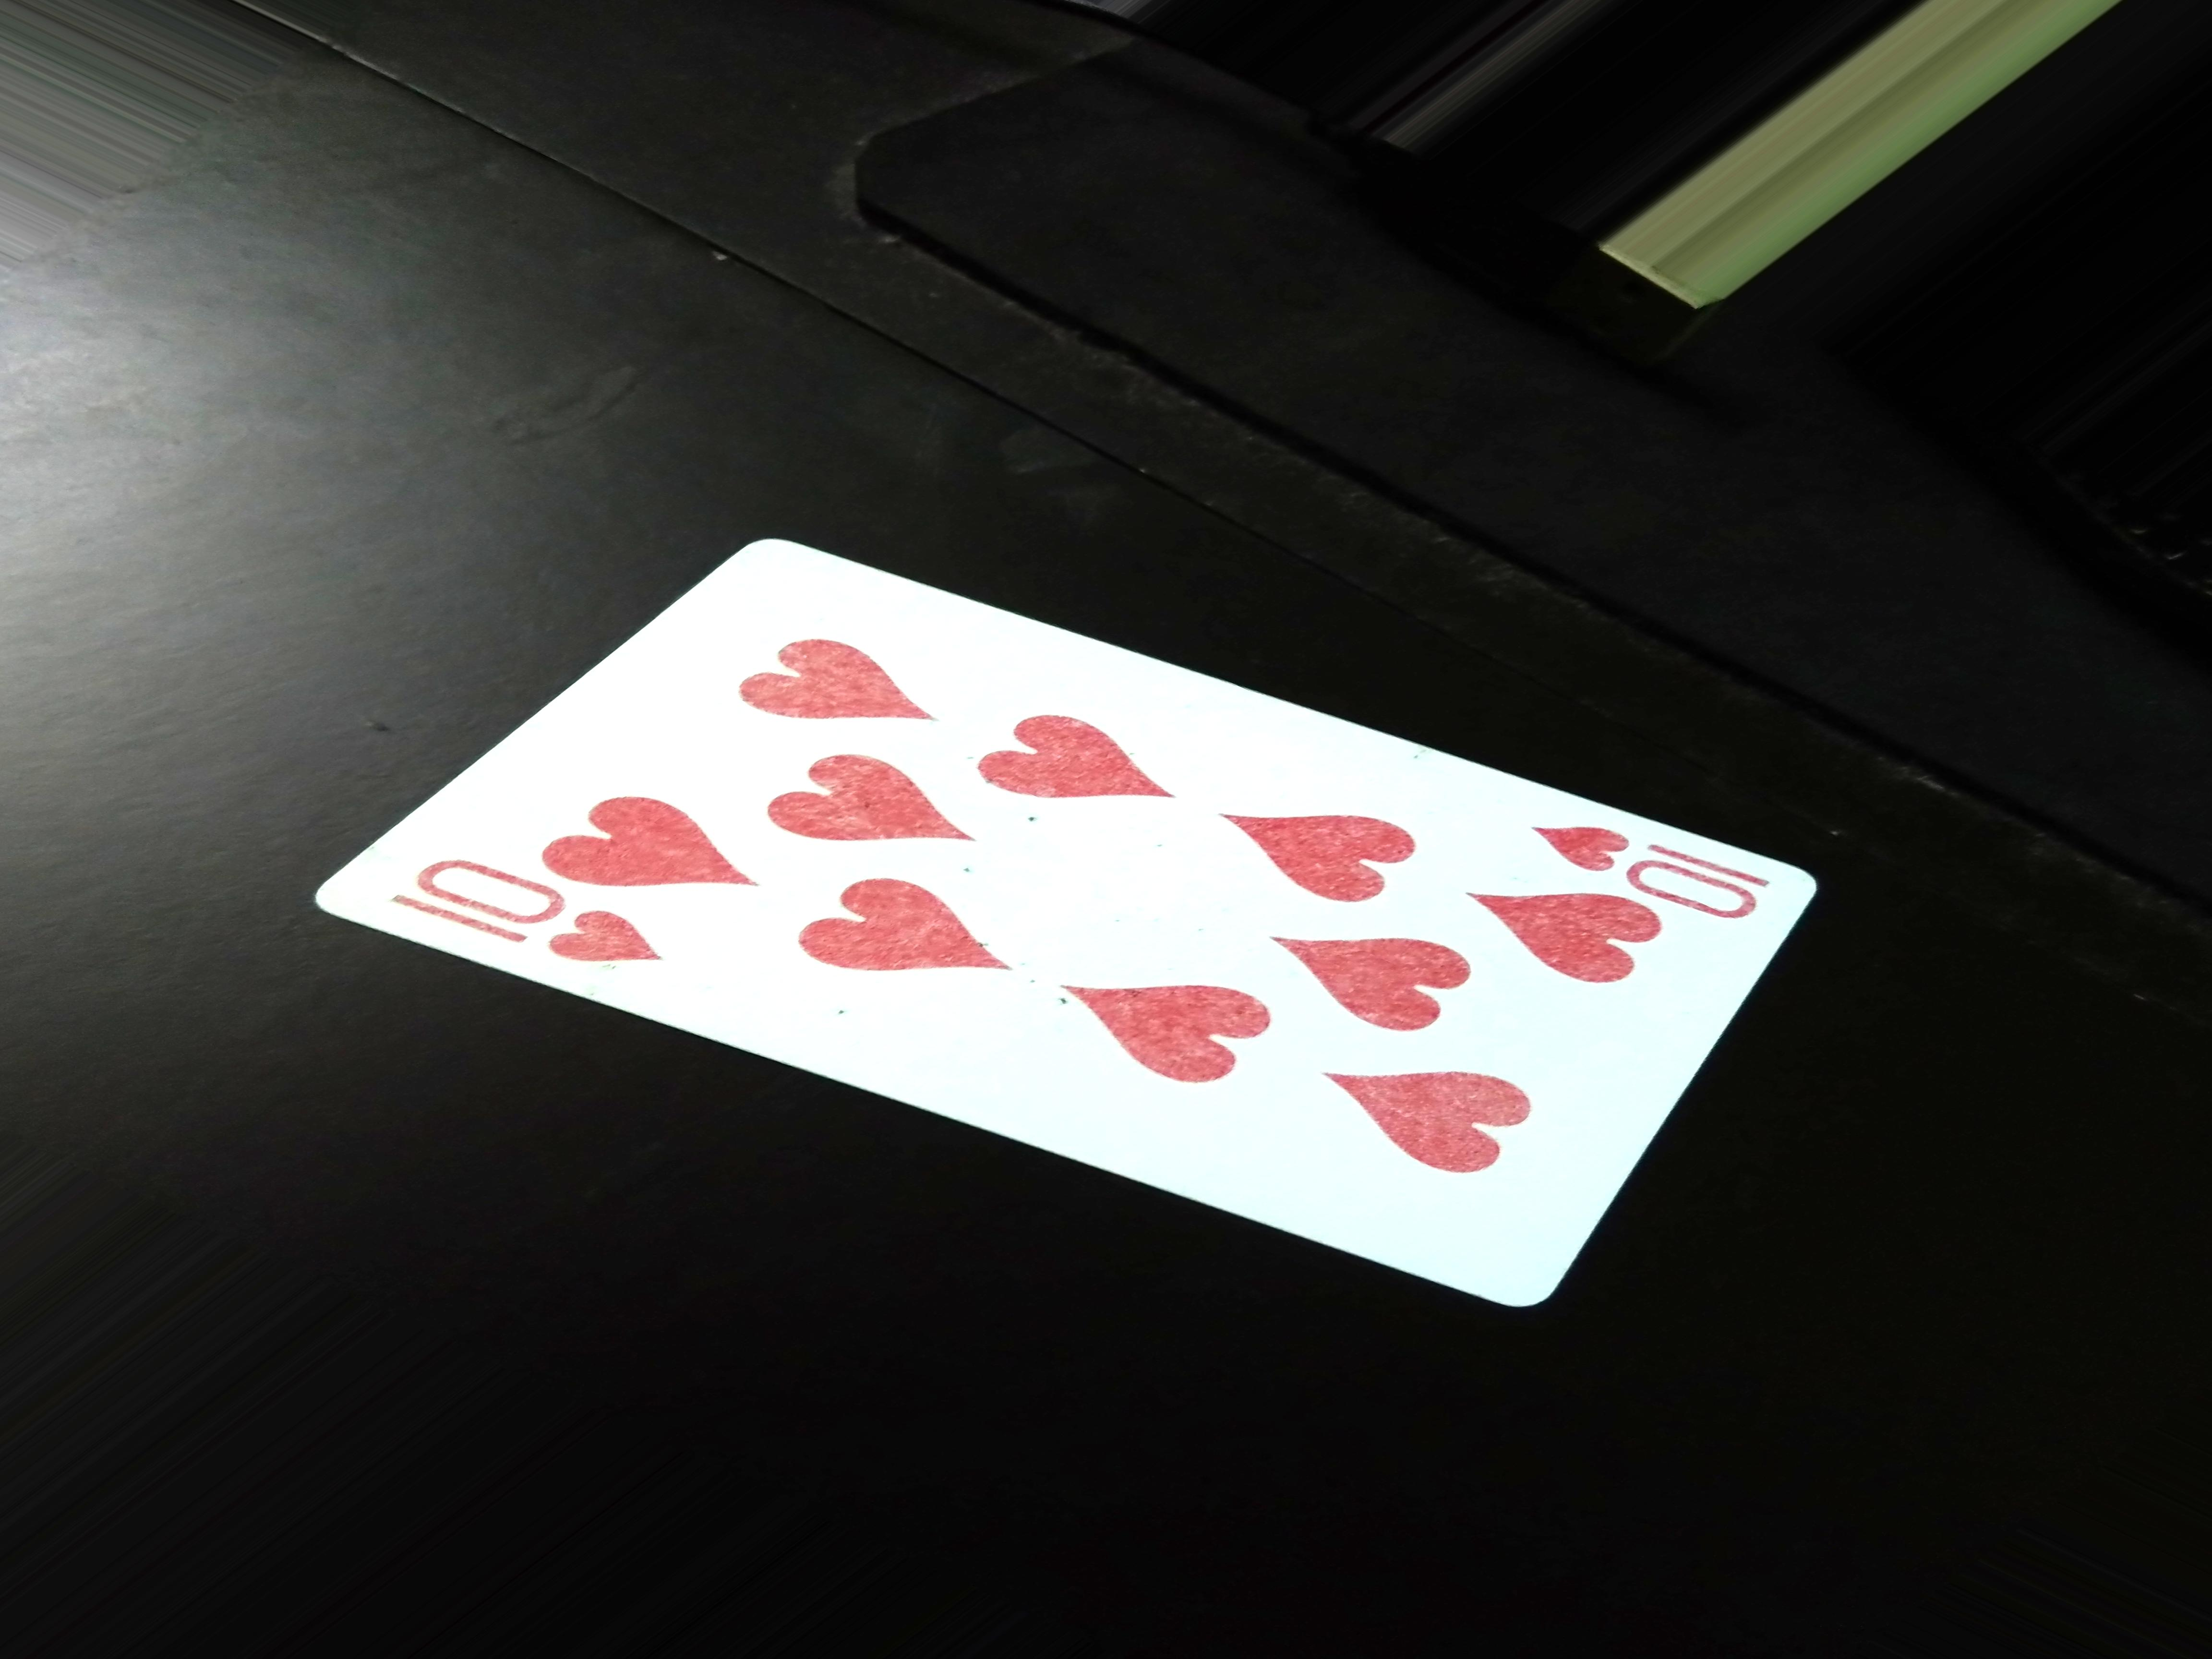10H: (392, 857, 667, 979)
